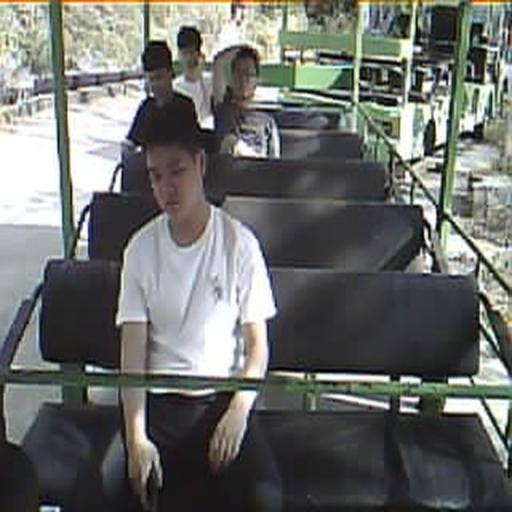persona: (115, 96, 278, 510), (211, 46, 282, 160), (124, 40, 198, 148), (172, 25, 214, 126)
